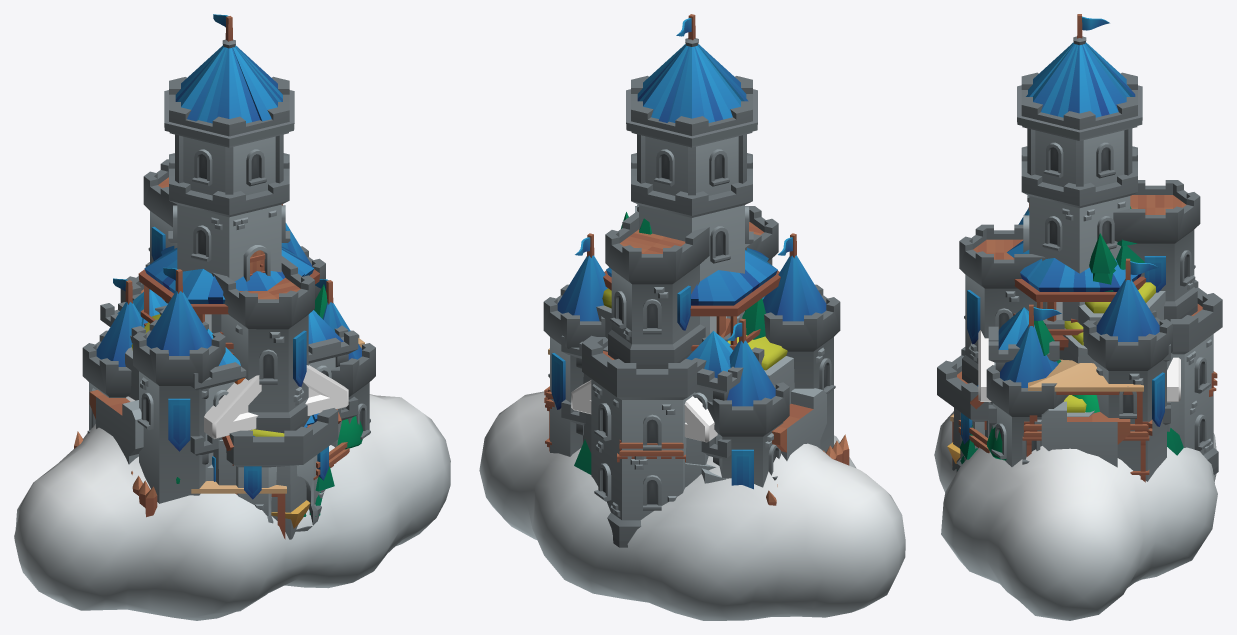
The model's file is world.glb.
The picture shows the model from 3 angles, left to right: view 1: azimuth 30°, elevation 25°; view 2: azimuth 150°, elevation 25°; view 3: azimuth 270°, elevation 25°; orthographic projection. The views are drawn at different scales.
Visible parts, largest first — view 1: building_castle_blue, cloud_big, building_barracks_blue, building_tower_B_top_blue, crypt, mountain_C, building_scaffolding, wall_straight, wall_straight_gate, fence_wood_straight, trees_B_large; view 2: building_castle_blue, cloud_big, building_tower_B_top_blue, building_barracks_blue, crypt, mountain_B_grass_trees, mountain_C, wall_straight_gate, wall_straight, building_scaffolding, mountain_C_grass; view 3: building_castle_blue, cloud_big, building_scaffolding, building_tower_B_top_blue, mountain_B_grass_trees, wall_straight, building_barracks_blue, crypt, mountain_C, trees_A_large, mountain_B.
Part boxes in pixels (x1,y1,x2,y2): building_castle_blue: [82, 14, 375, 531]; cloud_big: [14, 394, 450, 620]; building_barracks_blue: [100, 289, 358, 481]; building_tower_B_top_blue: [138, 245, 319, 354]; crypt: [204, 365, 348, 438]; mountain_C: [125, 350, 340, 539]; building_scaffolding: [191, 338, 364, 539]; wall_straight: [89, 390, 139, 464]; wall_straight_gate: [90, 393, 143, 464]; fence_wood_straight: [74, 431, 157, 517]; trees_B_large: [176, 416, 362, 483]; building_castle_blue: [543, 14, 840, 547]; cloud_big: [479, 391, 905, 620]; building_tower_B_top_blue: [603, 247, 780, 350]; building_barracks_blue: [561, 296, 764, 465]; crypt: [571, 380, 717, 442]; mountain_B_grass_trees: [583, 212, 765, 487]; mountain_C: [584, 356, 794, 465]; wall_straight_gate: [772, 391, 816, 460]; wall_straight: [772, 388, 826, 448]; building_scaffolding: [544, 348, 685, 462]; mountain_C_grass: [705, 335, 787, 463]; building_castle_blue: [937, 14, 1222, 481]; cloud_big: [934, 411, 1217, 620]; building_scaffolding: [950, 359, 1217, 482]; building_tower_B_top_blue: [1007, 240, 1146, 350]; mountain_B_grass_trees: [1034, 206, 1173, 416]; wall_straight: [1041, 401, 1130, 467]; building_barracks_blue: [988, 307, 1170, 424]; crypt: [978, 330, 1180, 401]; mountain_C: [952, 402, 1179, 470]; trees_A_large: [956, 425, 1183, 470]; mountain_B: [1059, 291, 1165, 416].
Size of the model in its own units: 3.61 by 4.89 by 2.28.
Materials: 2 (1 with a texture image).
